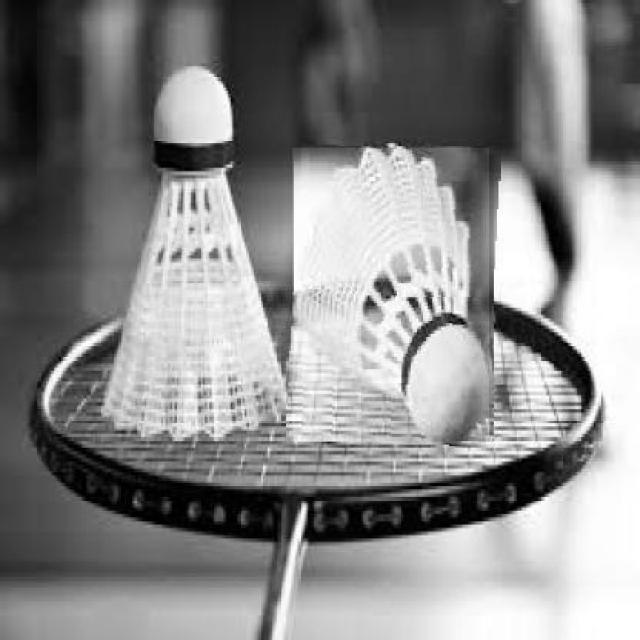Shuttlecock: (292, 146, 488, 443)
